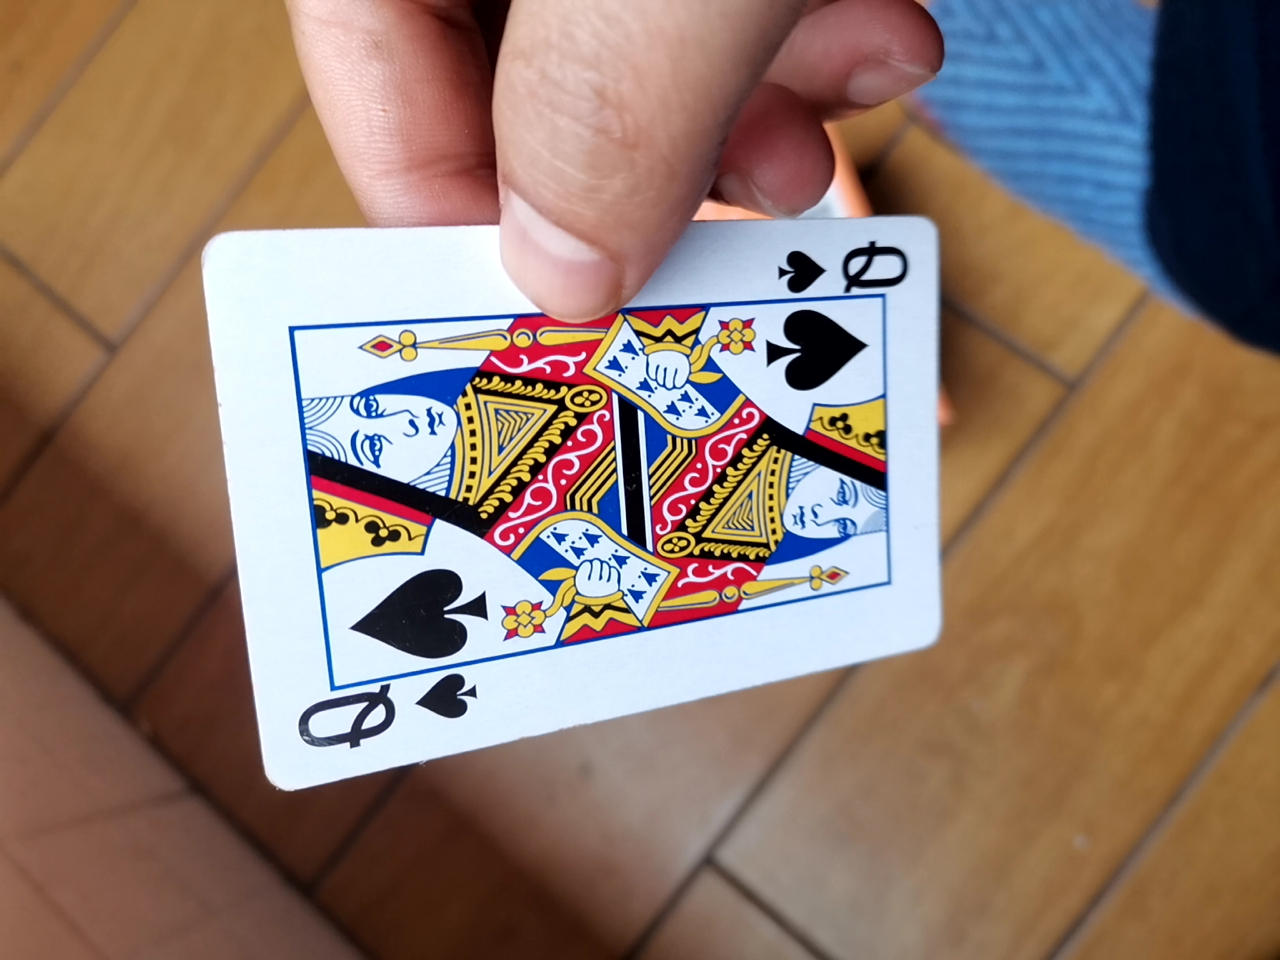ht q: (194, 187, 950, 799)
